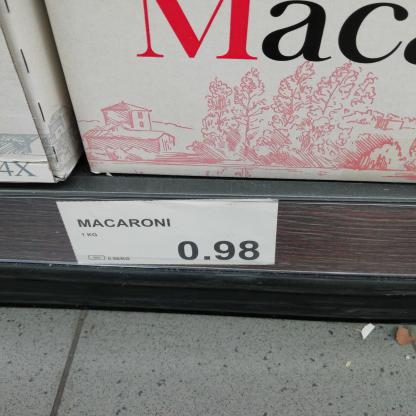prtg: (57, 202, 277, 265)
